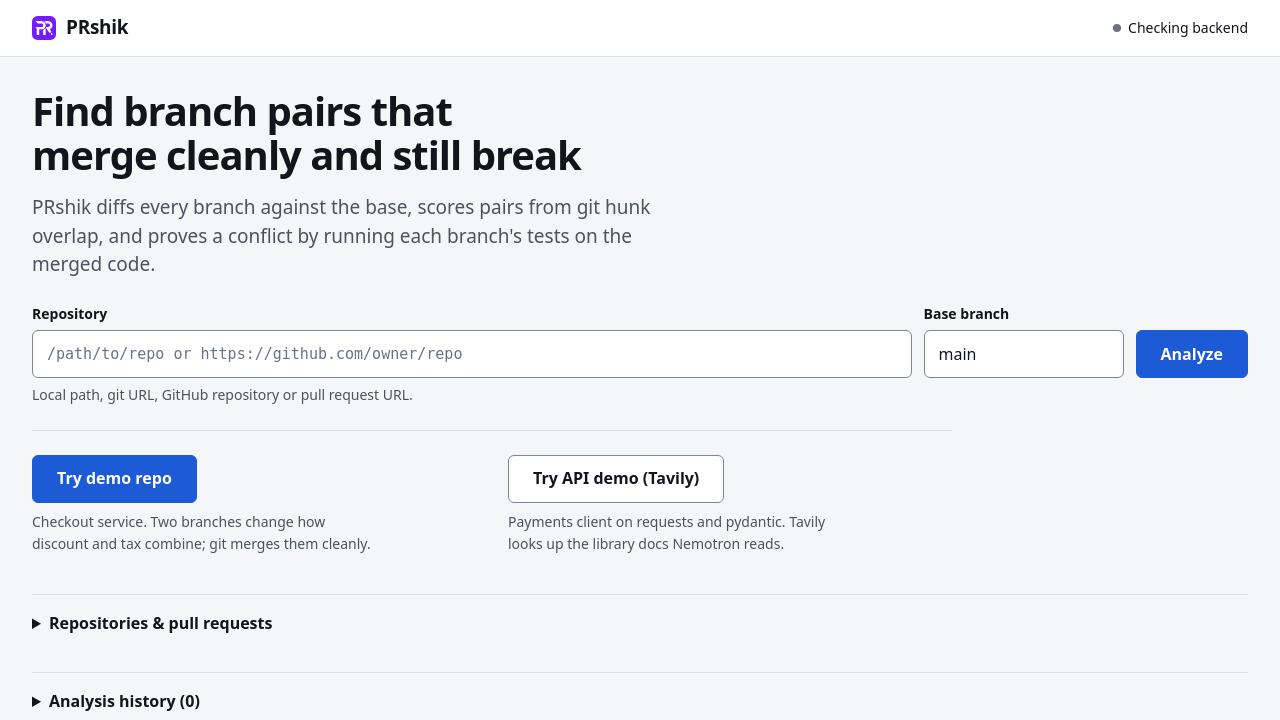
it: App › explains the demo-mode lock
The image size is (1280, 720).
Step 1. Type "https://github.com/o/r" into the field labelled "Repository" → [472, 354], box [32,330,912,378]
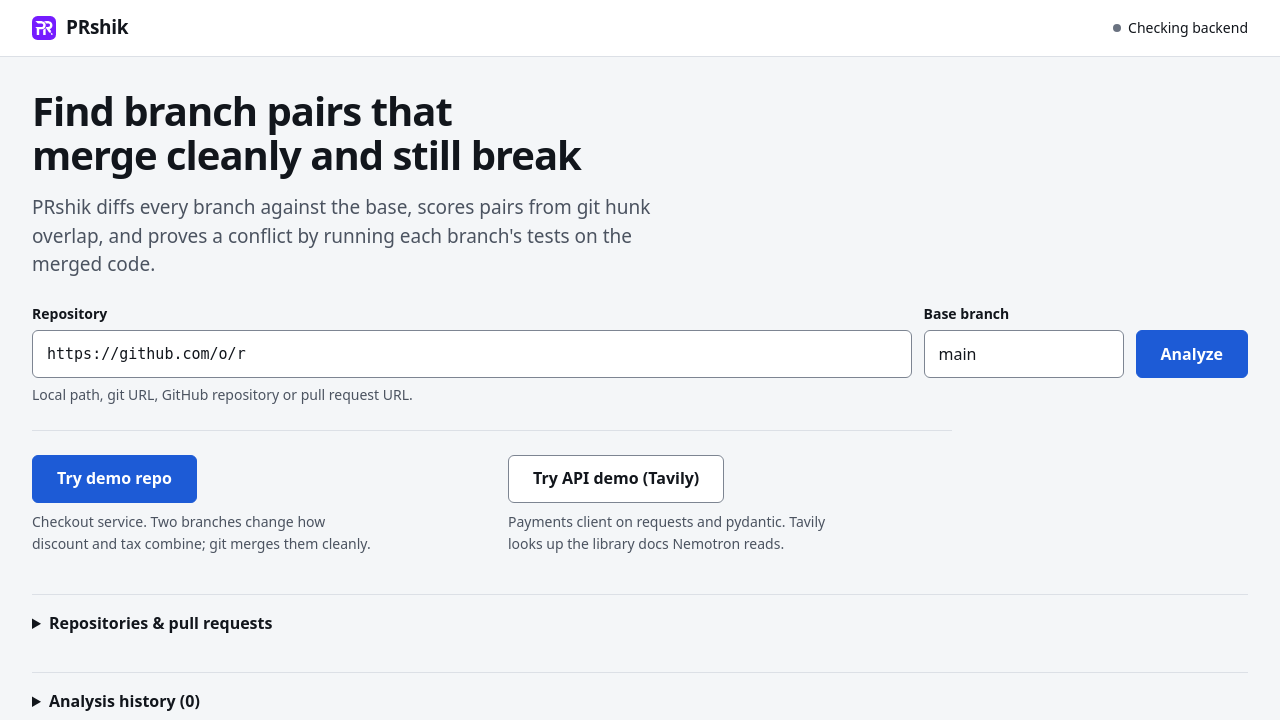
Step 2. Click the button "Analyze" → [1192, 354], box [1136,330,1248,378]
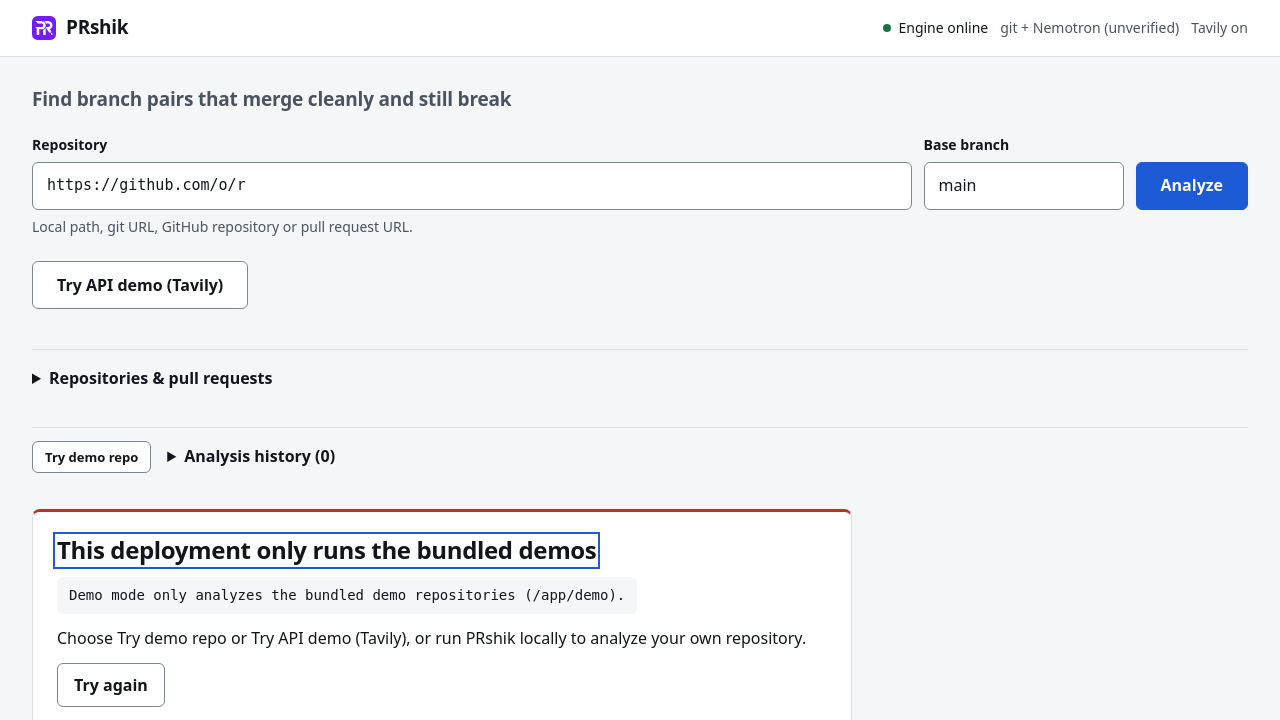
expect the heading "This deployment only runs the bundled demos" is shown: met, box [57,536,596,565]
